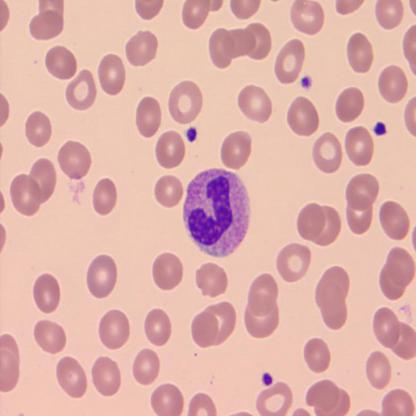Band Neutrophil: (181, 164, 252, 259)
